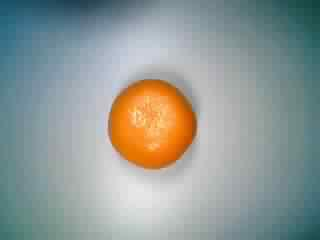orange: (103, 79, 201, 178)
